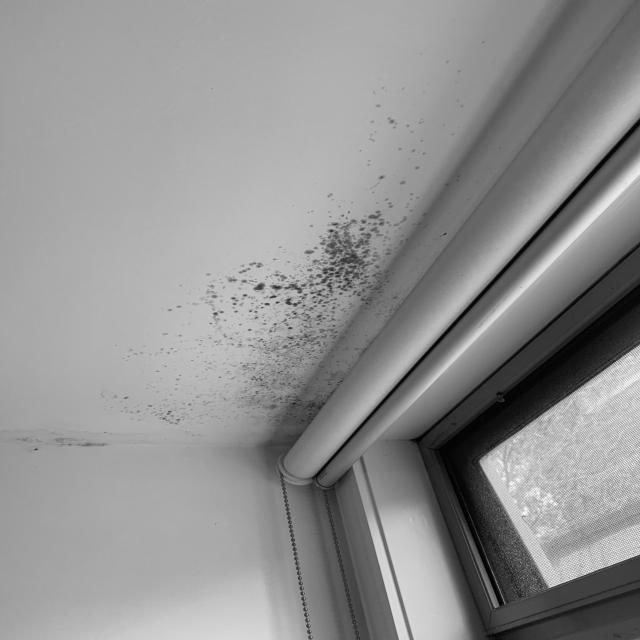stain marks: (0, 91, 458, 457)
